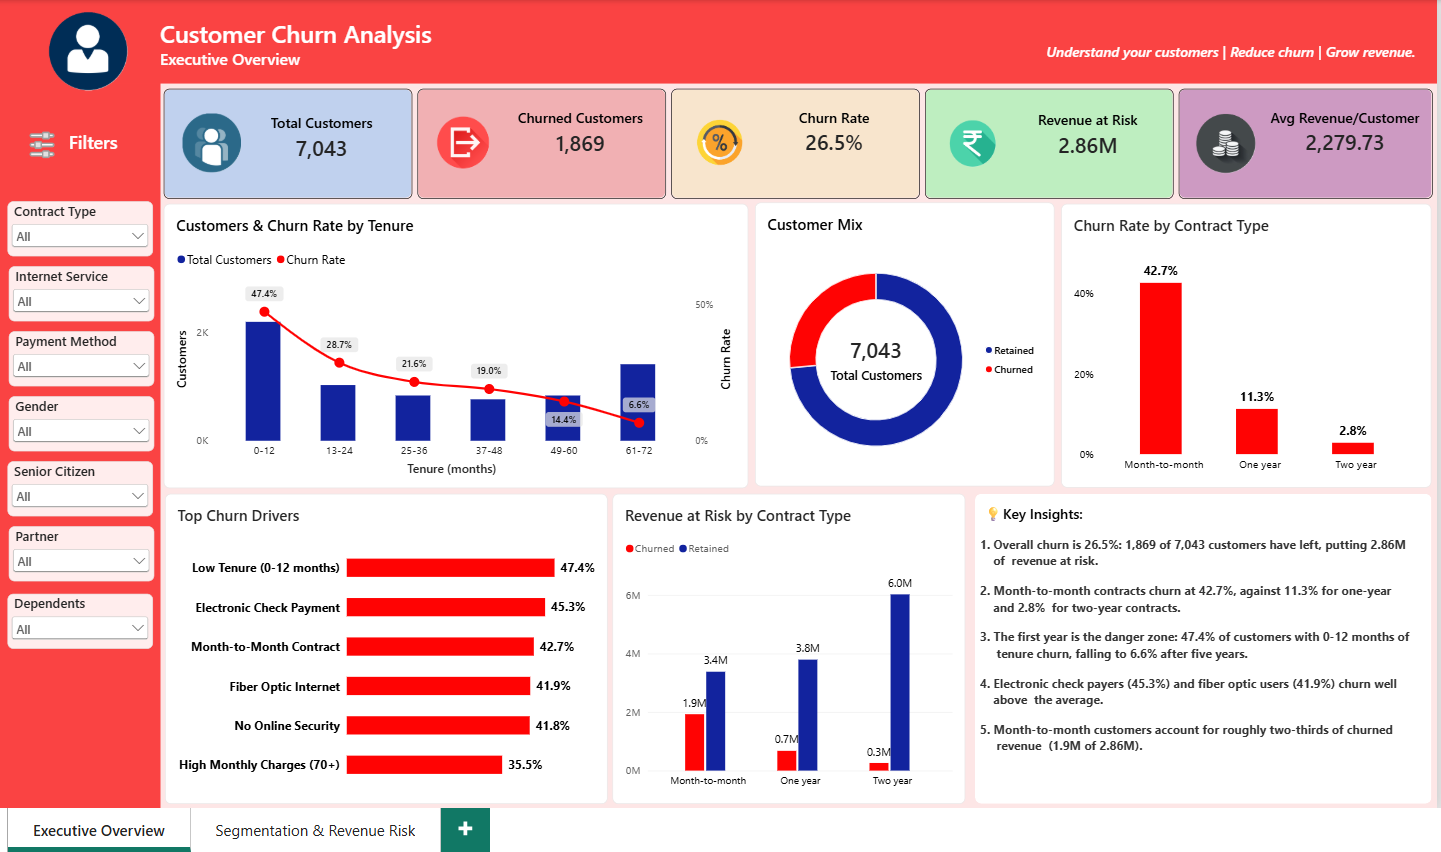

The page's visual inventory and layout, read from the dashboard file:
{"tool":"powerbi","page":{"name":"Executive Overview","canvas":[1920,1080],"ordinal":0},"visuals":[{"type":"shape","box":[0,0,214.5,1079.7],"z":0},{"type":"shape","box":[0,0,1920.4,111.6],"z":1000},{"type":"image","box":[61,10.5,111.6,113.4],"z":2000},{"type":"textbox","box":[214.5,22.7,369.8,59.3],"z":3000},{"type":"textbox","box":[214.5,62.8,369.8,48.8],"z":4000},{"type":"textbox","box":[1397.1,57.6,523.3,50.6],"z":5000},{"type":"image","box":[20.3,168.2,72.1,49.9],"z":6000},{"type":"textbox","box":[92.4,173.7,89,48.8],"z":7000},{"type":"cardVisual","fields":{"Data":["Customers.Total Customers"]},"box":[219,118,332,147],"z":8000},{"type":"cardVisual","fields":{"Data":["Customers.Churned Customers"]},"box":[558,118,332,147],"z":9000},{"type":"cardVisual","fields":{"Data":["Customers.Churn Rate"]},"box":[897,118,332,147],"z":10000},{"type":"cardVisual","fields":{"Data":["Customers.Revenue at Risk"]},"box":[1236,118,332,147],"z":11000},{"type":"cardVisual","fields":{"Data":["Customers.Average Revenue per Customer"]},"box":[1575,118,339,147.2],"z":12000},{"type":"donutChart","title":"Customer Mix","fields":{"Category":["Customers.Churn Status"],"Y":["Customers.Total Customers"]},"box":[1009,271,399.7,379.2],"z":13000},{"type":"lineClusteredColumnComboChart","title":"Customers & Churn Rate by Tenure","fields":{"Category":["Customers.Tenure Group"],"Y":["Customers.Total Customers"],"Y2":["Customers.Churn Rate"]},"box":[219.4,271.4,781,380],"z":14000},{"type":"clusteredColumnChart","title":"Churn Rate by Contract Type","fields":{"Category":["Customers.contract"],"Y":["Customers.Churn Rate"]},"box":[1418.4,271.4,494.5,379.2],"z":15000},{"type":"clusteredBarChart","title":"Top Churn Drivers","fields":{"Category":["Churn Drivers.Driver"],"Y":["Churn Drivers.Driver Churn Rate"]},"box":[219.9,659.8,591.5,414],"z":16000},{"type":"clusteredColumnChart","title":"Revenue at Risk by Contract Type","fields":{"Category":["Customers.contract"],"Series":["Customers.Churn Status"],"Y":["Customers.Total Revenue"]},"box":[819,659,471.3,414],"z":17000},{"type":"shape","box":[1303,659.8,609.9,414],"z":18000},{"type":"textbox","box":[1308.6,672.8,589.6,388.1],"z":19000},{"type":"slicer","fields":{"Values":["Customers.contract"]},"box":[9.2,268,194.1,73.9],"z":20000},{"type":"slicer","fields":{"Values":["Customers.internet_service"]},"box":[11.1,354.9,194.1,73.9],"z":21000},{"type":"slicer","fields":{"Values":["Customers.payment_method"]},"box":[11.1,441.7,194.1,73.9],"z":22000},{"type":"slicer","fields":{"Values":["Customers.gender"]},"box":[11.1,528.6,194.1,73.9],"z":23000},{"type":"slicer","fields":{"Values":["Customers.Senior Citizen Status"]},"box":[9.2,615.5,194.1,73.9],"z":24000},{"type":"slicer","fields":{"Values":["Customers.partner"]},"box":[11.1,702.4,194.1,73.9],"z":25000},{"type":"slicer","fields":{"Values":["Customers.dependents"]},"box":[9.2,792.9,194.1,73.9],"z":26000}]}

Visuals, with their boxes on the page's 1920x1080 design canvas (x1, y1, x2, y2). These are canvas units, not pixel positions in the 1441x852 screenshot, which may show the page scaled, cropped or inside an application window:
shape: bbox=[0, 0, 214, 1080]
shape: bbox=[0, 0, 1920, 112]
image: bbox=[61, 10, 173, 124]
textbox: bbox=[214, 23, 584, 82]
textbox: bbox=[214, 63, 584, 112]
textbox: bbox=[1397, 58, 1920, 108]
image: bbox=[20, 168, 92, 218]
textbox: bbox=[92, 174, 181, 222]
cardVisual - Customers.Total Customers: bbox=[219, 118, 551, 265]
cardVisual - Customers.Churned Customers: bbox=[558, 118, 890, 265]
cardVisual - Customers.Churn Rate: bbox=[897, 118, 1229, 265]
cardVisual - Customers.Revenue at Risk: bbox=[1236, 118, 1568, 265]
cardVisual - Customers.Average Revenue per Customer: bbox=[1575, 118, 1914, 265]
"Customer Mix" donutChart: bbox=[1009, 271, 1409, 650]
"Customers & Churn Rate by Tenure" lineClusteredColumnComboChart: bbox=[219, 271, 1000, 651]
"Churn Rate by Contract Type" clusteredColumnChart: bbox=[1418, 271, 1913, 651]
"Top Churn Drivers" clusteredBarChart: bbox=[220, 660, 811, 1074]
"Revenue at Risk by Contract Type" clusteredColumnChart: bbox=[819, 659, 1290, 1073]
shape: bbox=[1303, 660, 1913, 1074]
textbox: bbox=[1309, 673, 1898, 1061]
slicer - Customers.contract: bbox=[9, 268, 203, 342]
slicer - Customers.internet_service: bbox=[11, 355, 205, 429]
slicer - Customers.payment_method: bbox=[11, 442, 205, 516]
slicer - Customers.gender: bbox=[11, 529, 205, 602]
slicer - Customers.Senior Citizen Status: bbox=[9, 616, 203, 689]
slicer - Customers.partner: bbox=[11, 702, 205, 776]
slicer - Customers.dependents: bbox=[9, 793, 203, 867]
